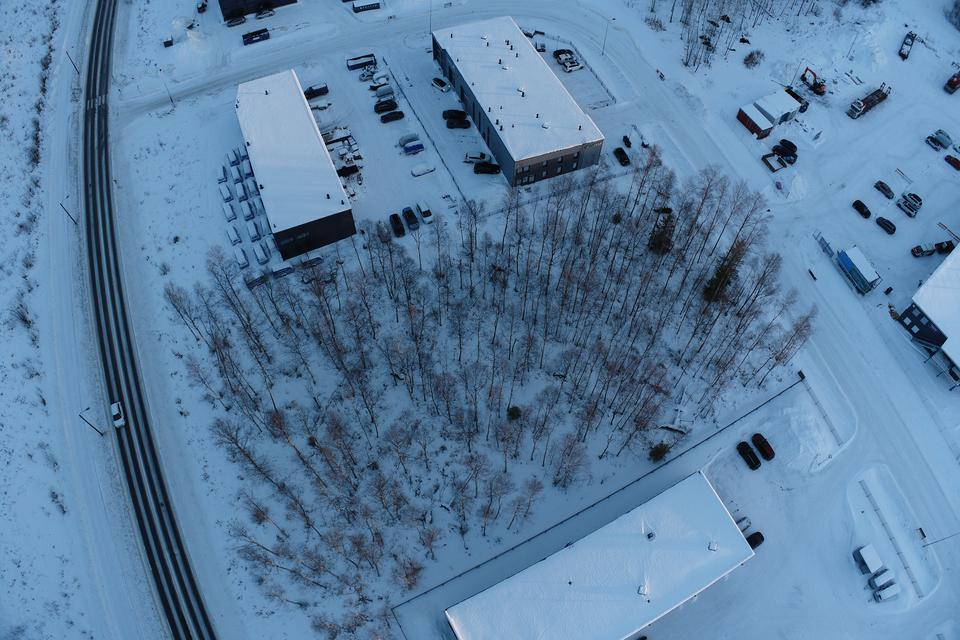intersection: (50, 74, 176, 156)
